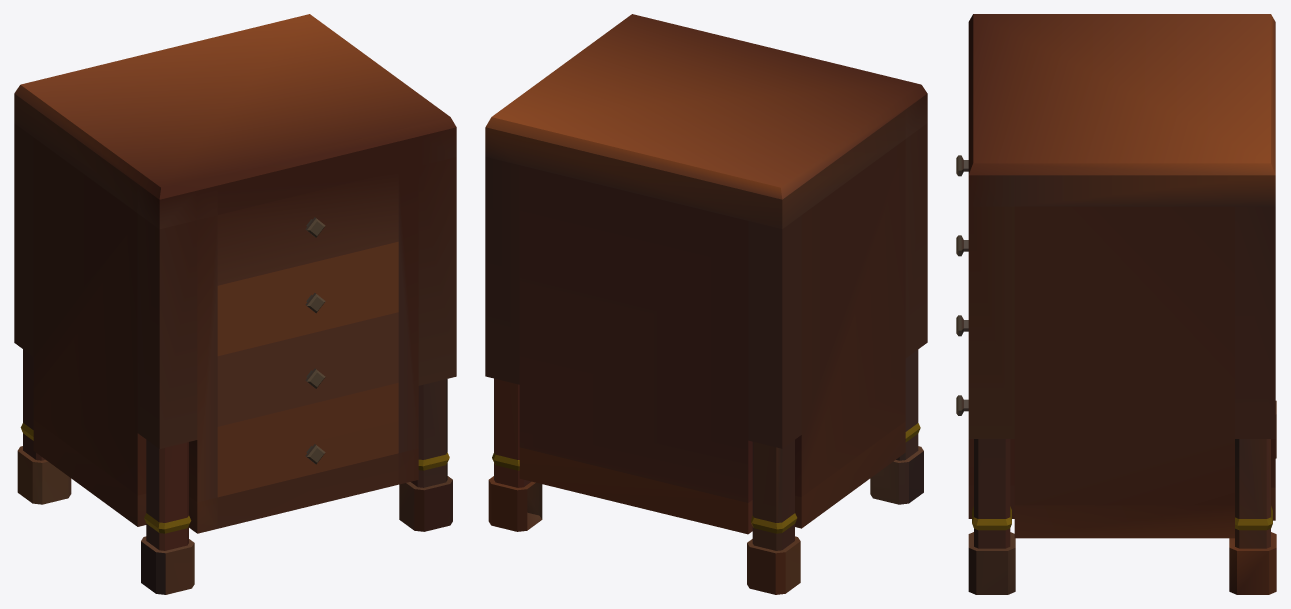
The model's file is Furniture_EndTableC.fbx.
3 views of the same model, side by side, from view 1: azimuth 30°, elevation 25°; view 2: azimuth 150°, elevation 25°; view 3: azimuth 270°, elevation 25° (orthographic). The views are drawn at different scales.
Visible parts, largest first — view 1: Furniture_EndTableC; view 2: Furniture_EndTableC; view 3: Furniture_EndTableC.
Boxes of the visible parts, x1,y1,x2,y2 form: Furniture_EndTableC: (14, 14, 456, 594); Furniture_EndTableC: (485, 14, 927, 594); Furniture_EndTableC: (956, 14, 1276, 594).
Bounding box in the file's own units: 78.48 × 103 × 69.25.
